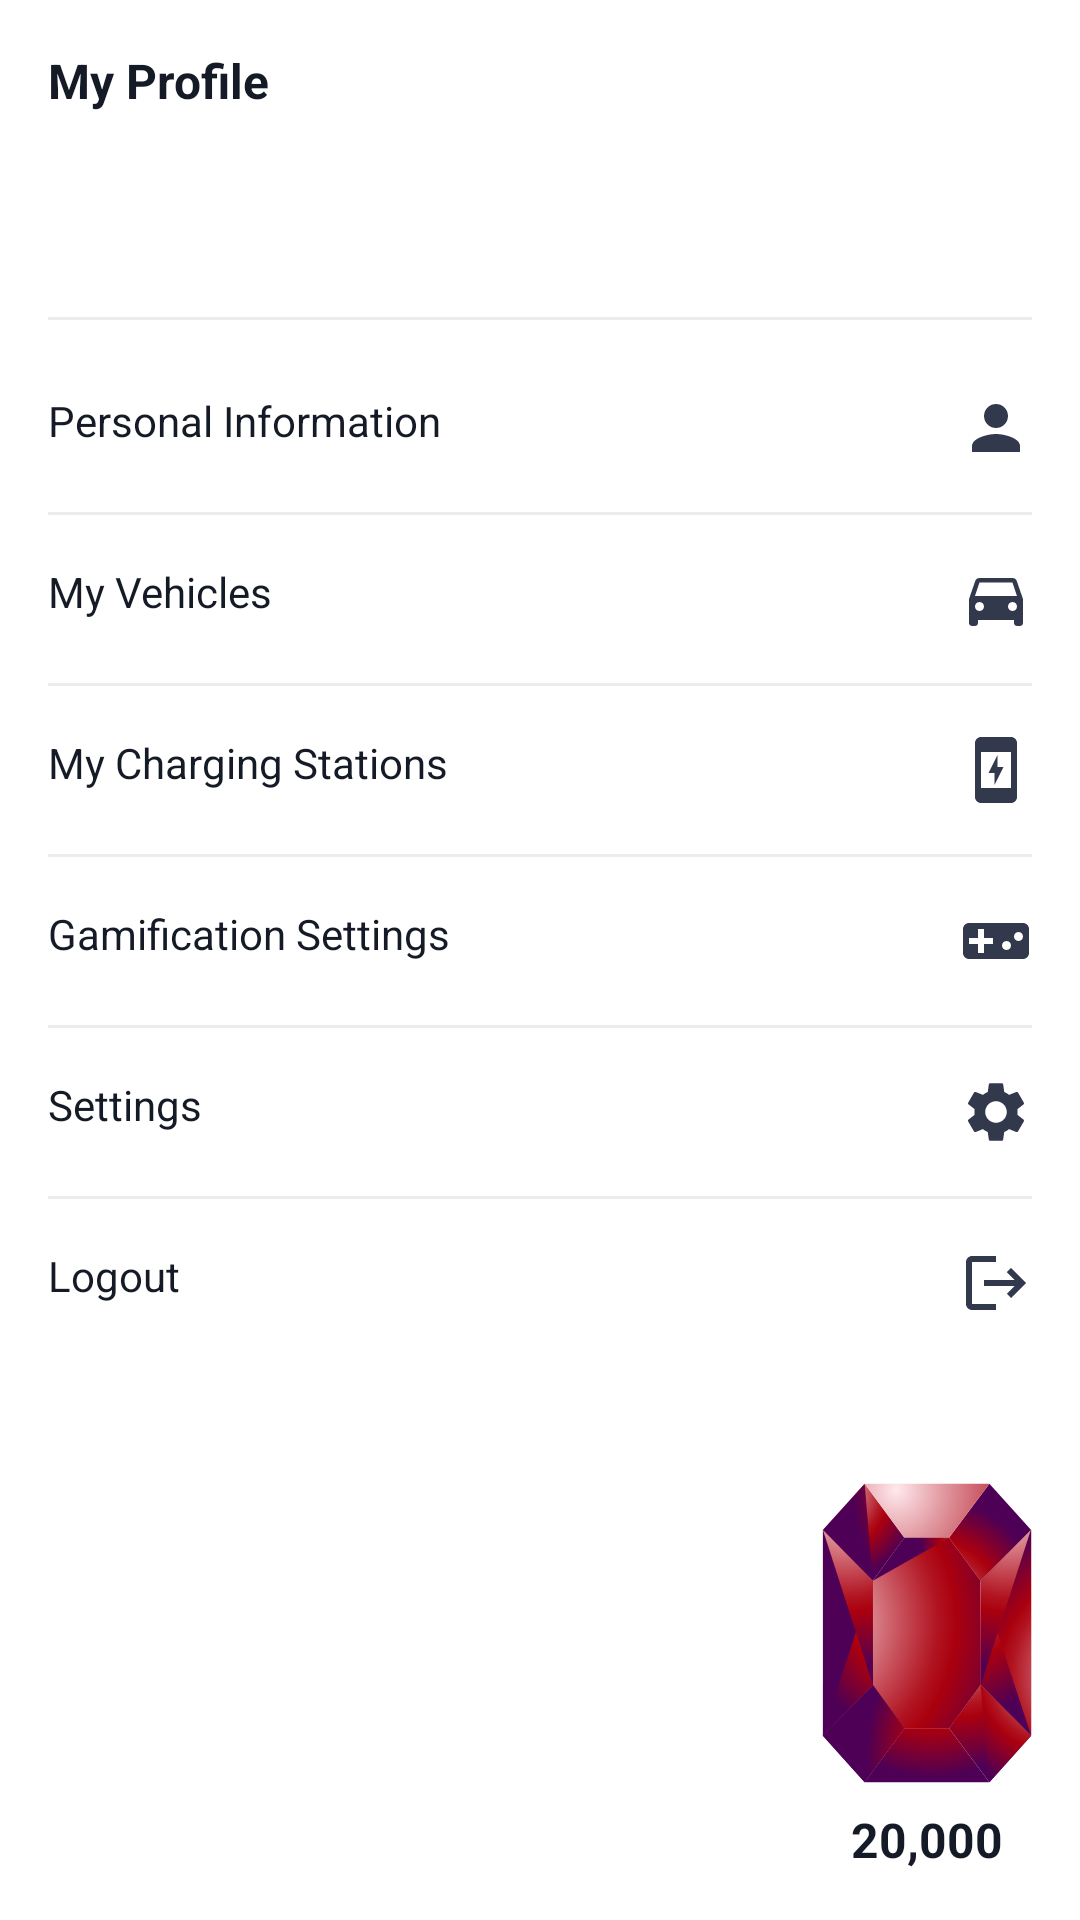

Screen size 1080px x 1920px. Icon name, then its box in pixels as (x1, y1, x2, y2):
crystal: (822, 1483, 1032, 1783)
